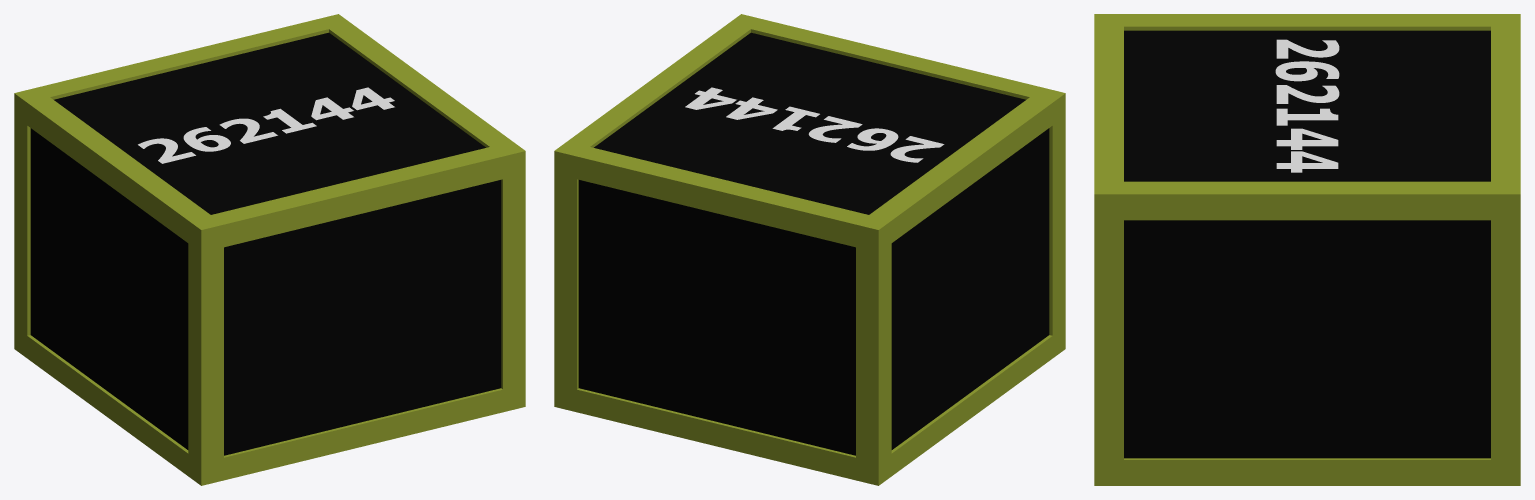
Rendered from 262144Prefab.fbx.
The picture shows the model from 3 angles, left to right: view 1: azimuth 30°, elevation 25°; view 2: azimuth 150°, elevation 25°; view 3: azimuth 270°, elevation 25°; orthographic projection. The views are drawn at different scales.
Visible parts, largest first — view 1: Text.017; view 2: Text.017; view 3: Text.017.
Boxes of the visible parts, x1,y1,x2,y2 form: Text.017: [14, 14, 525, 485]; Text.017: [554, 14, 1065, 485]; Text.017: [1094, 14, 1520, 485].
Bounding box in the file's own units: 194 × 146 × 194.
